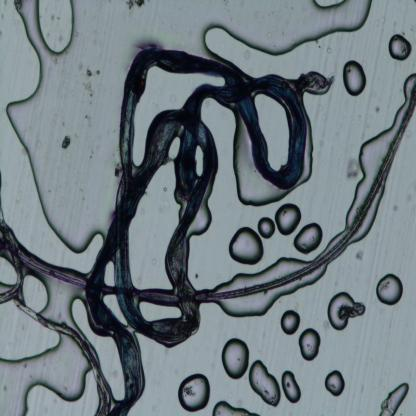Air bubble: (3, 0, 102, 249), (205, 0, 375, 55), (349, 103, 400, 209), (225, 112, 275, 210), (32, 0, 83, 57), (223, 257, 303, 289), (219, 292, 289, 318), (327, 291, 368, 330), (249, 360, 282, 408), (176, 371, 213, 413), (220, 338, 250, 380), (294, 218, 324, 256), (343, 58, 369, 98), (275, 201, 303, 238), (375, 272, 404, 306), (380, 382, 409, 416), (213, 398, 259, 416), (191, 204, 213, 239), (299, 327, 321, 362), (281, 370, 301, 404), (325, 369, 345, 398), (280, 310, 300, 336), (258, 214, 275, 240), (312, 0, 347, 12)
Background material: (229, 224, 265, 264), (123, 0, 150, 10), (60, 133, 72, 152)
Cellulose filter fibre: (0, 256, 113, 416)
Cotton: (84, 40, 315, 416)
Hair: (14, 87, 416, 302), (387, 30, 414, 64)
